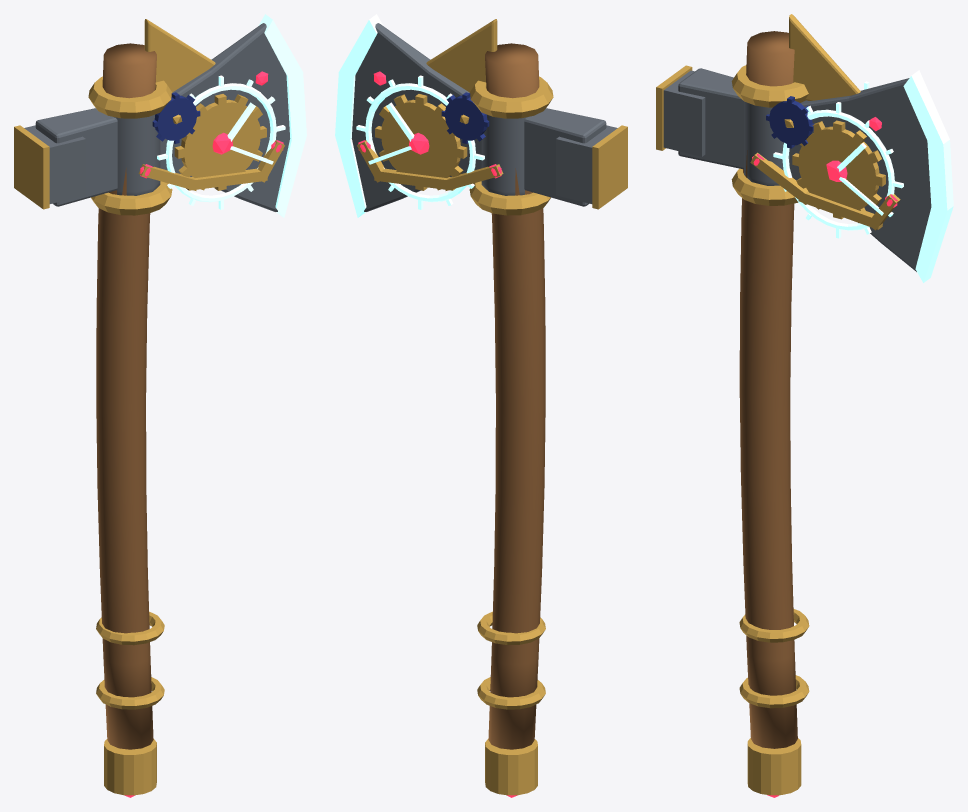
The model's file is hourwright.glb.
3 renders of one model, left to right at view 1: azimuth 30°, elevation 25°; view 2: azimuth 150°, elevation 25°; view 3: azimuth 330°, elevation 25°, orthographic.
Visible parts, largest first — view 1: AX18_Haft, AX18_Head, AX18_GearA-1, AX18_Edge, AX18_Socket, AX18_Gnomon, AX18_Crown, AX18_Poll, AX18_PollFace, AX18_Socket_Top, AX18_HourRing-1, AX18_Socket_Bot (+5 smaller); view 2: AX18_Haft, AX18_Head, AX18_GearA1, AX18_Edge, AX18_Socket, AX18_Gnomon, AX18_Crown, AX18_Poll, AX18_PollFace, AX18_Socket_Top, AX18_HourRing1, AX18_Socket_Bot (+5 smaller); view 3: AX18_Haft, AX18_Head, AX18_Edge, AX18_GearA-1, AX18_Gnomon, AX18_Poll, AX18_Crown, AX18_Socket, AX18_HourRing-1, AX18_Socket_Top, AX18_GearB-1, AX18_Socket_Bot (+5 smaller).
Boxes of the visible parts, left/top/right/bottom form: AX18_Haft: left=96, top=43, right=156, bottom=749; AX18_Head: left=35, top=23, right=290, bottom=211; AX18_GearA-1: left=181, top=99, right=260, bottom=177; AX18_Edge: left=258, top=14, right=306, bottom=217; AX18_Socket: left=114, top=114, right=160, bottom=195; AX18_Gnomon: left=144, top=19, right=215, bottom=92; AX18_Crown: left=104, top=738, right=156, bottom=795; AX18_Poll: left=24, top=125, right=85, bottom=203; AX18_PollFace: left=14, top=125, right=49, bottom=209; AX18_Socket_Top: left=88, top=76, right=172, bottom=118; AX18_HourRing-1: left=166, top=83, right=276, bottom=202; AX18_Socket_Bot: left=91, top=181, right=172, bottom=215; AX18_Haft: left=485, top=43, right=545, bottom=749; AX18_Head: left=351, top=23, right=606, bottom=211; AX18_GearA1: left=381, top=99, right=460, bottom=177; AX18_Edge: left=335, top=14, right=383, bottom=217; AX18_Socket: left=481, top=114, right=527, bottom=195; AX18_Gnomon: left=426, top=19, right=497, bottom=92; AX18_Crown: left=485, top=738, right=537, bottom=795; AX18_Poll: left=556, top=125, right=617, bottom=203; AX18_PollFace: left=592, top=125, right=627, bottom=209; AX18_Socket_Top: left=469, top=76, right=553, bottom=118; AX18_HourRing1: left=365, top=83, right=475, bottom=202; AX18_Socket_Bot: left=469, top=181, right=550, bottom=215; AX18_Haft: left=739, top=31, right=797, bottom=748; AX18_Head: left=678, top=68, right=931, bottom=271; AX18_Edge: left=903, top=70, right=953, bottom=282; AX18_GearA-1: left=798, top=126, right=879, bottom=210; AX18_Gnomon: left=789, top=14, right=860, bottom=100; AX18_Poll: left=663, top=70, right=705, bottom=156; AX18_Crown: left=747, top=738, right=801, bottom=795; AX18_Socket: left=744, top=101, right=789, bottom=185; AX18_HourRing-1: left=782, top=109, right=894, bottom=230; AX18_Socket_Top: left=731, top=65, right=808, bottom=107; AX18_GearB-1: left=769, top=101, right=812, bottom=145; AX18_Socket_Bot: left=731, top=168, right=798, bottom=205.
Size of the model in its own units: 0.357 by 0.9609 by 0.0952.
